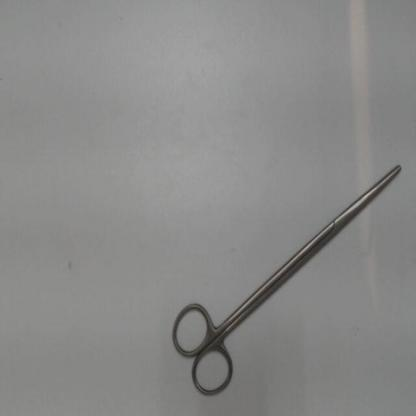9 Metzenbaum Scissors: (164, 155, 407, 403)
